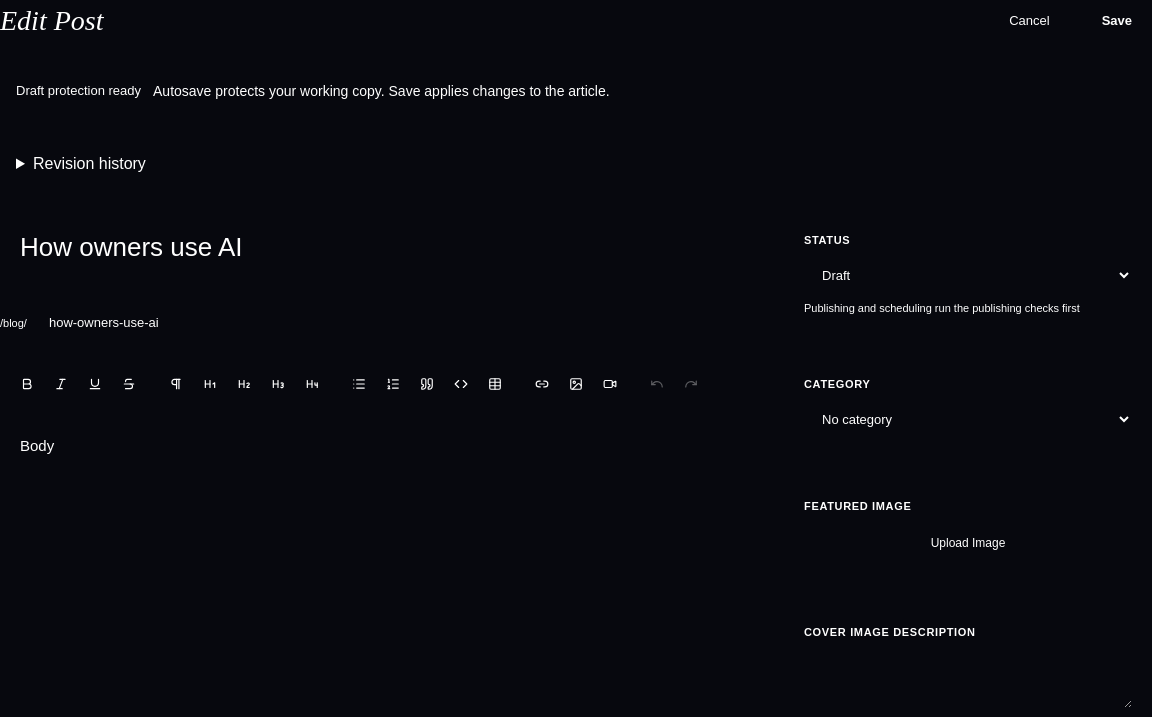
Test: publishing from the editor › shows the server's reason error inside the override dialog
Select "Published" in the dropdown labelled "Status" at (968, 275), box [804, 257, 1132, 294]
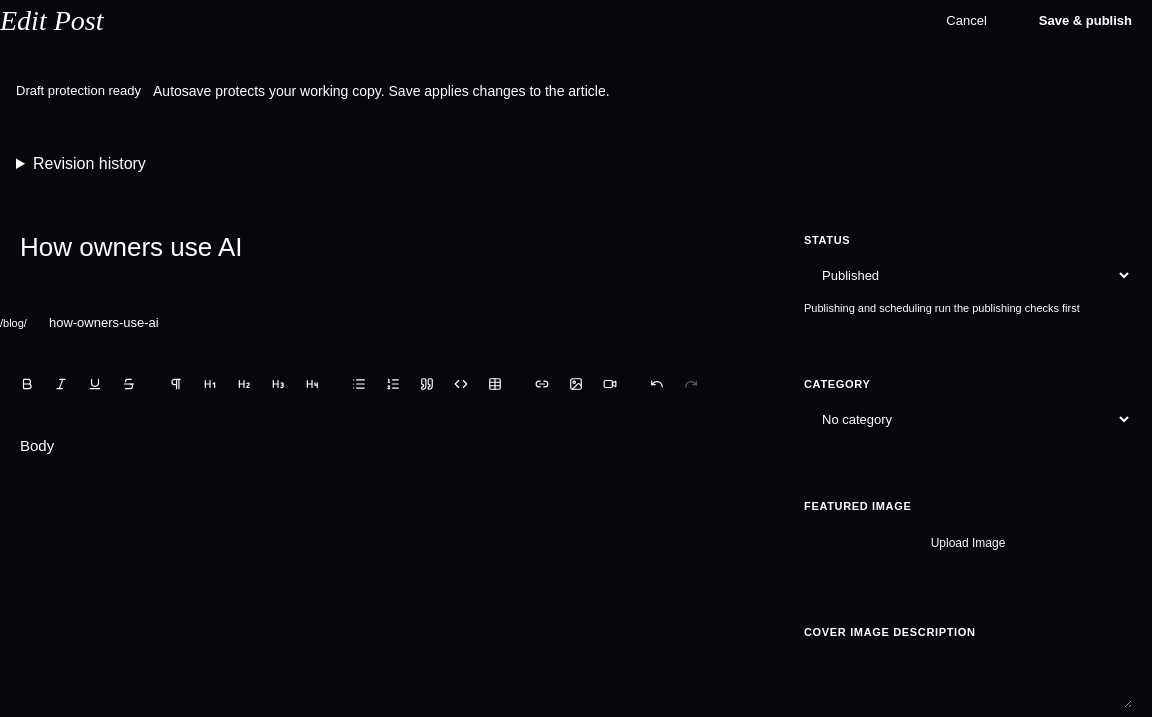
Click the button "Save & publish" at (1085, 21), box [1019, 1, 1151, 41]
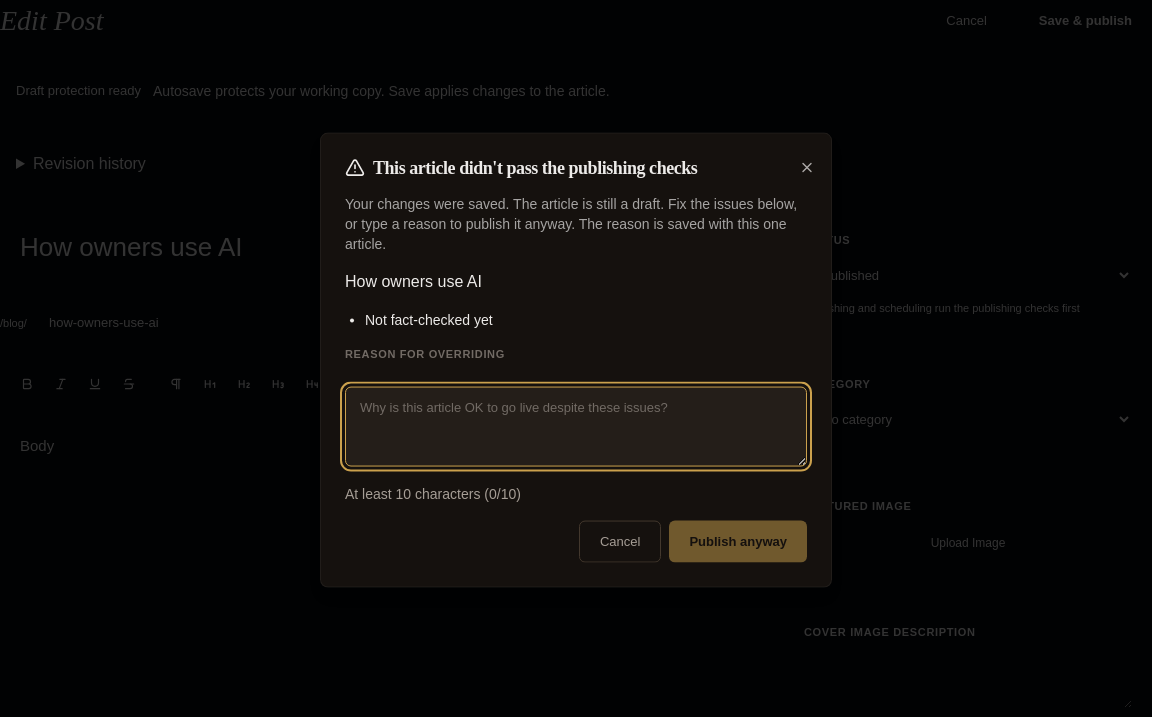
Type "Checked both sources by hand" into the text box labelled "Reason for overriding" at (576, 426), box [345, 386, 807, 467]
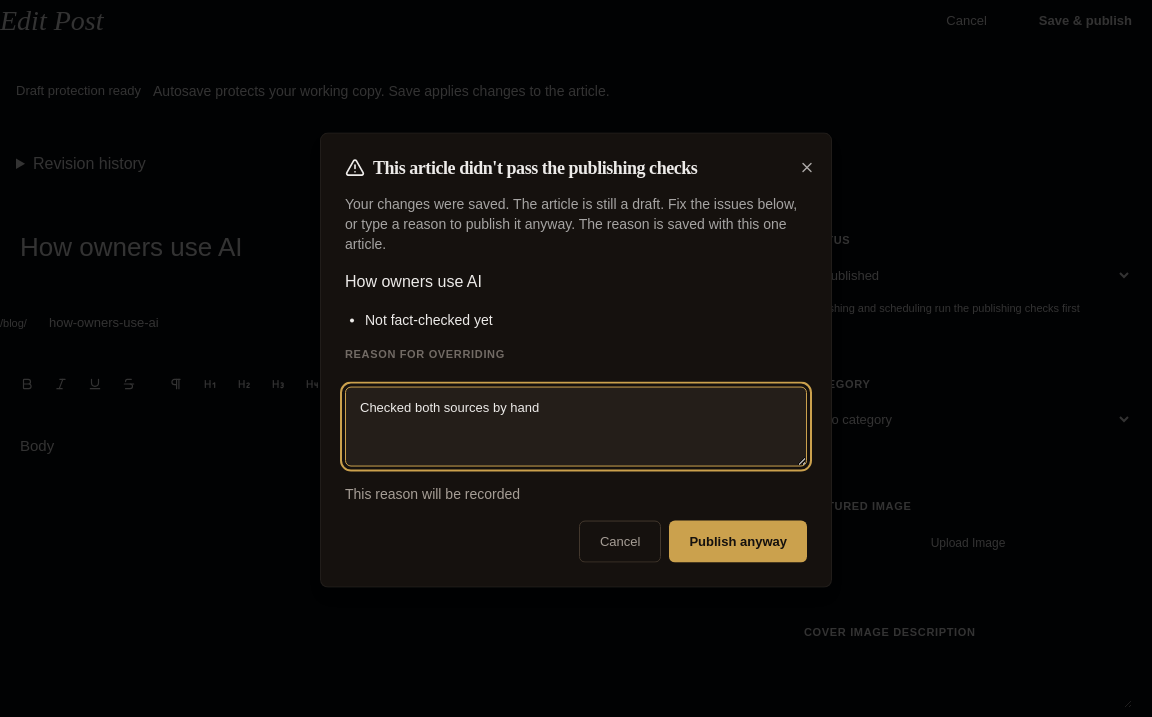
Click the button "Publish anyway" at (738, 542), box [670, 521, 807, 562]
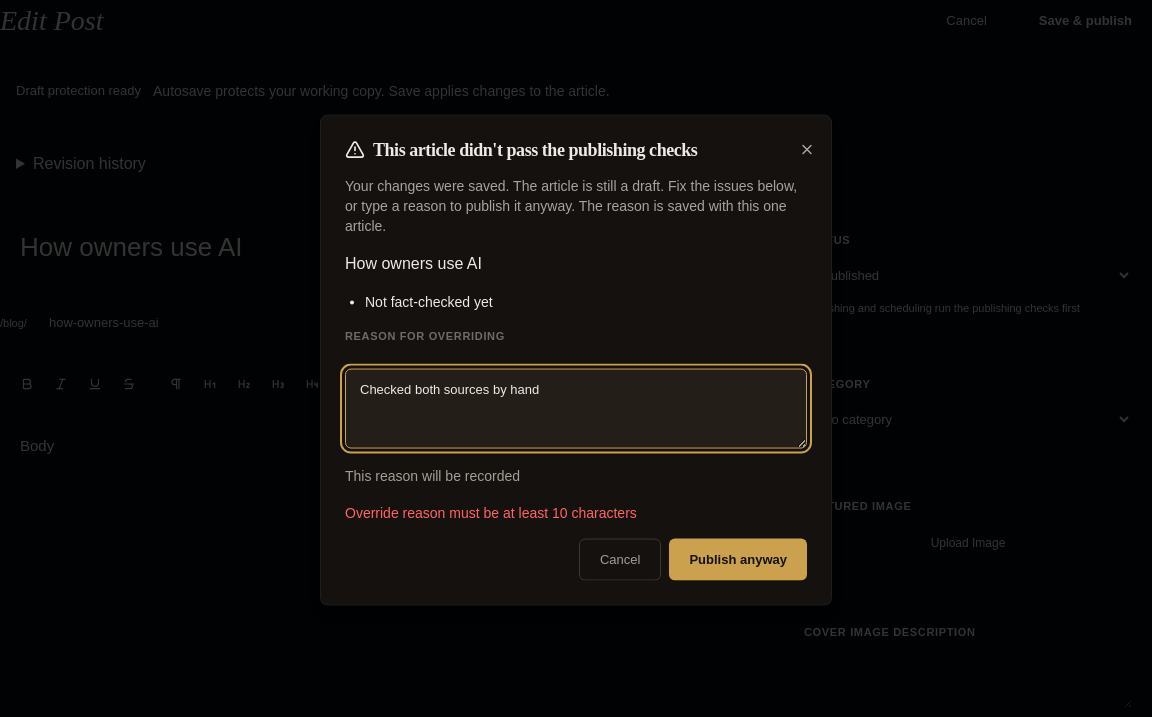
Expected: the text "Override reason must be at least 10 characters" is shown, [345, 505, 637, 521]
